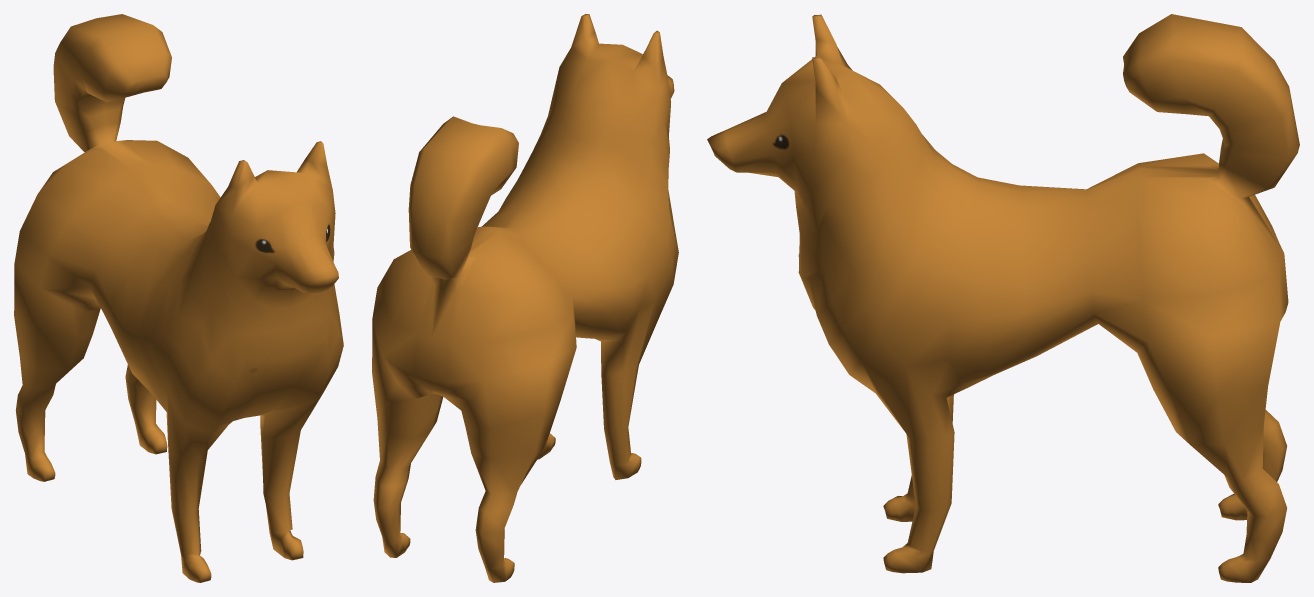
File: Dog.fbx
3 views of the same model, side by side, from view 1: azimuth 30°, elevation 25°; view 2: azimuth 150°, elevation 25°; view 3: azimuth 270°, elevation 25° (orthographic). The views are drawn at different scales.
Visible parts, largest first — view 1: Cylinder; view 2: Cylinder; view 3: Cylinder.
Boxes of the visible parts, x1,y1,x2,y2 form: Cylinder: (14, 14, 343, 582); Cylinder: (372, 14, 678, 582); Cylinder: (707, 14, 1299, 582).
Size of the model in its own units: 279 by 626 by 647.
